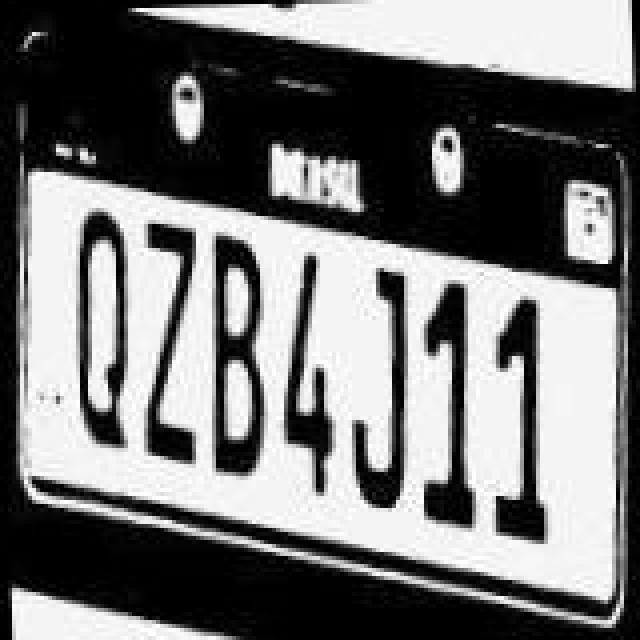1: (476, 284, 564, 552), (400, 270, 484, 538)
4: (266, 236, 338, 500)
B: (192, 208, 264, 480)
J: (326, 254, 414, 510)
Q: (72, 200, 136, 456)
Z: (132, 204, 204, 464)
